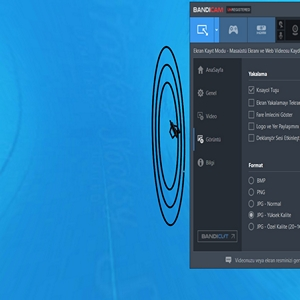circle: (146, 43, 188, 232)
submarine: (169, 119, 182, 146)
